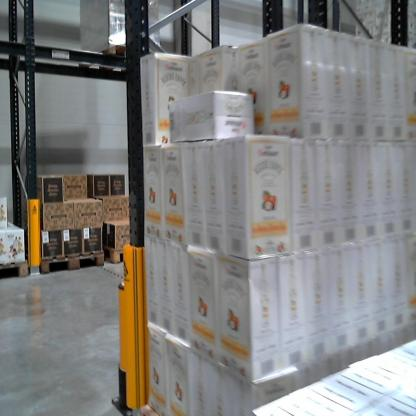pallet: (68, 43, 182, 77), (37, 247, 109, 282), (104, 241, 135, 267), (1, 257, 34, 281)
